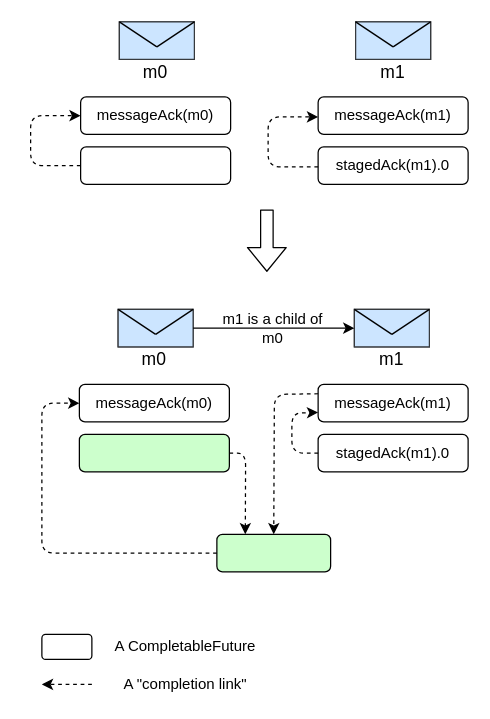
Some shapes in this 490 by 719 pixel diagram are drawn without their labels. The shapes that lost their labels are listed below. From the top down, each one's centre as x and y in pixels, then its label:
At point (155, 165): "stagedAck(m0).0".
At point (153, 452): "stagedAck(m0).1".
